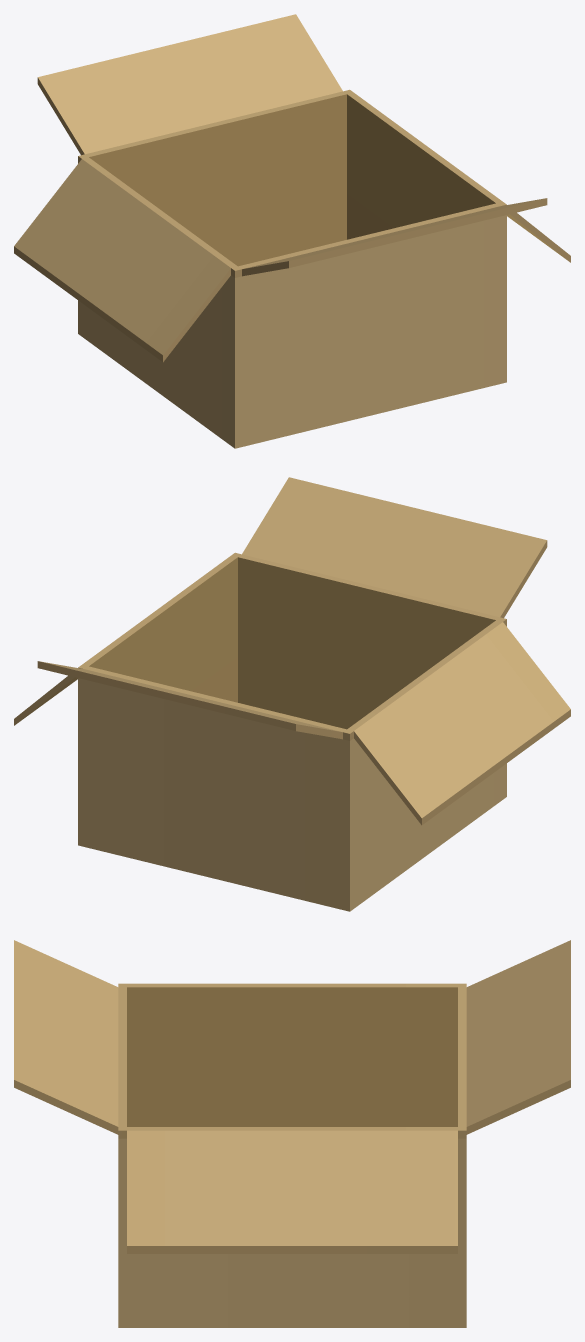
3 renders of one model, top to bottom at view 1: azimuth 30°, elevation 25°; view 2: azimuth 150°, elevation 25°; view 3: azimuth 270°, elevation 25°, orthographic. The views are drawn at different scales.
Parts seen in each view (by area): view 1: Cardboard box_Colormap_0; view 2: Cardboard box_Colormap_0; view 3: Cardboard box_Colormap_0.
Boxes of the visible parts, left/top/right/bottom form: Cardboard box_Colormap_0: left=14, top=14, right=570, bottom=448; Cardboard box_Colormap_0: left=14, top=477, right=570, bottom=911; Cardboard box_Colormap_0: left=14, top=940, right=570, bottom=1327.
Size of the model in its own units: 3 by 1.55 by 3.2.
1 material, 1 textured.
